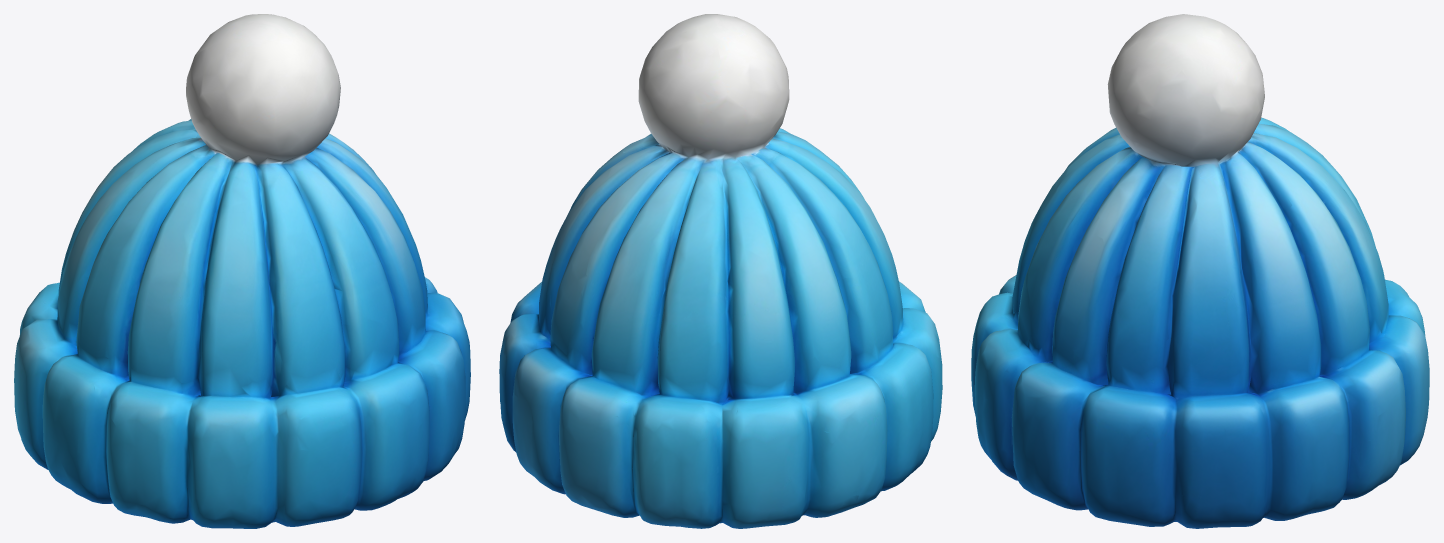
Rendered from cs-beanie.glb.
3 renders of one model, left to right at view 1: azimuth 30°, elevation 25°; view 2: azimuth 150°, elevation 25°; view 3: azimuth 270°, elevation 25°, orthographic. The views are drawn at different scales.
Parts seen in each view (by area): view 1: tripo_node_84771435-dd24-4333-ac29-8ecc01ebc605; view 2: tripo_node_84771435-dd24-4333-ac29-8ecc01ebc605; view 3: tripo_node_84771435-dd24-4333-ac29-8ecc01ebc605.
Part boxes in pixels (<box>): tripo_node_84771435-dd24-4333-ac29-8ecc01ebc605: <box>14,14,470,528</box>; tripo_node_84771435-dd24-4333-ac29-8ecc01ebc605: <box>499,14,942,528</box>; tripo_node_84771435-dd24-4333-ac29-8ecc01ebc605: <box>971,14,1429,528</box>.
Bounding box in the file's own units: 0.9545 × 1 × 0.9578.
Materials: 1 (1 with a texture image).
